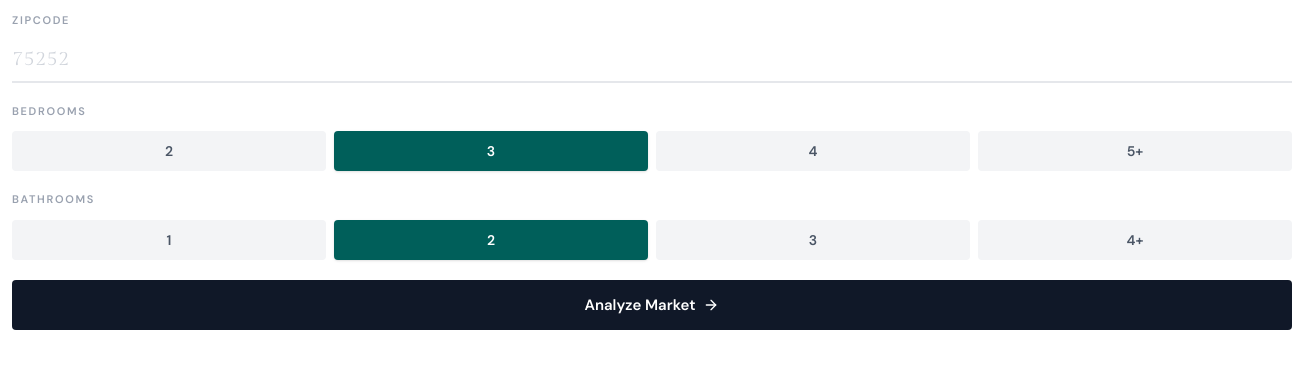
LAND-03: Zipcode validation › shows inline error when invalid zipcode is submitted
Type "99999" into the field with placeholder "75252" at (652, 60), box [12, 36, 1292, 82]
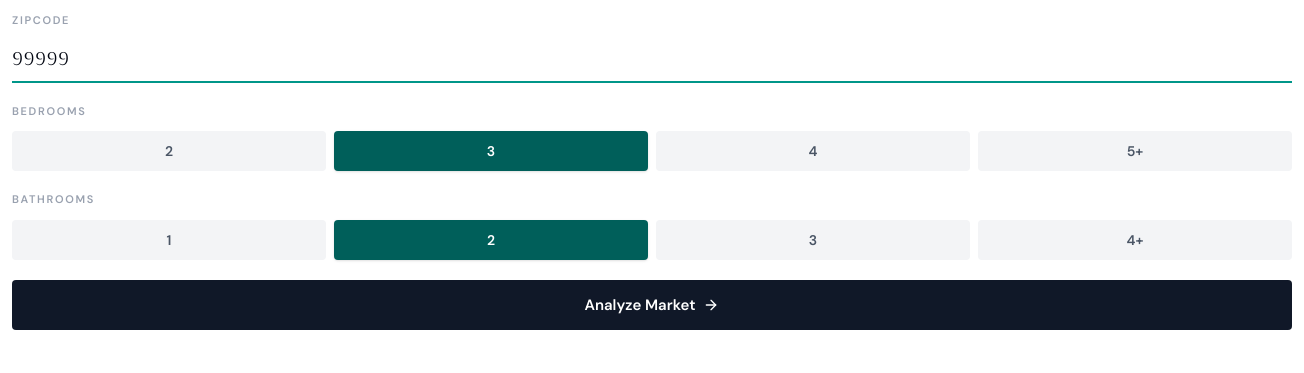
Click the button "Analyze Market" at (652, 305), box [12, 280, 1292, 330]
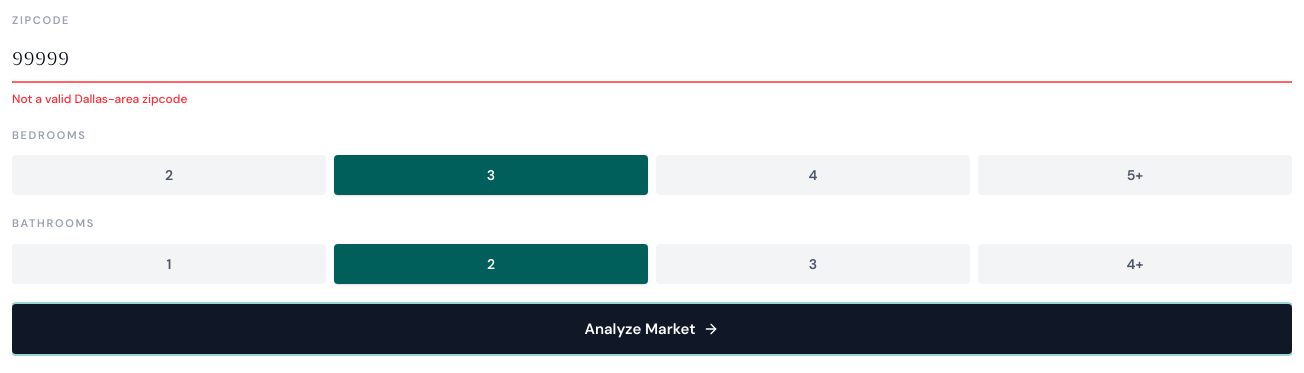
Expected: the message "Not a valid Dallas-area zipcode" is shown, [12, 90, 187, 106]
